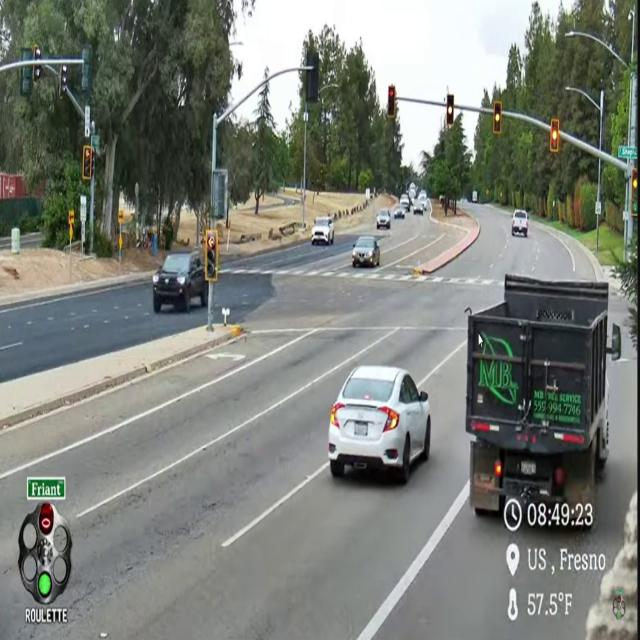car: (329, 366, 430, 483), (153, 252, 208, 312), (352, 236, 379, 267), (311, 216, 334, 245), (512, 210, 528, 237), (376, 209, 390, 229), (399, 193, 410, 209), (413, 200, 423, 215), (394, 207, 405, 219), (419, 191, 426, 200)
traffic signal: (204, 230, 218, 281), (306, 51, 319, 103), (81, 45, 91, 95), (39, 504, 54, 535), (82, 145, 93, 181), (20, 66, 32, 96), (550, 119, 560, 152), (59, 64, 68, 99), (493, 101, 502, 135), (387, 86, 396, 119), (631, 168, 637, 217), (446, 94, 454, 126), (33, 45, 41, 61)
truck: (466, 275, 621, 523), (472, 191, 477, 203)
